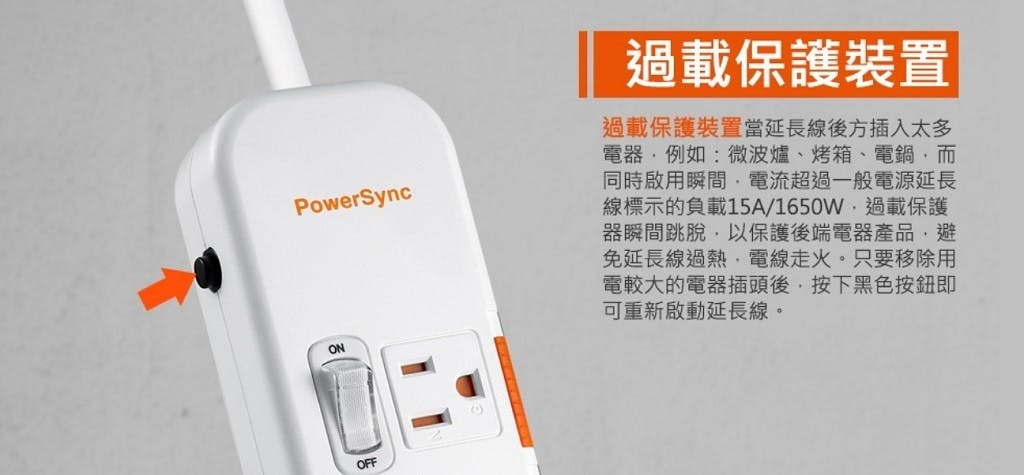socket: (171, 80, 539, 472)
